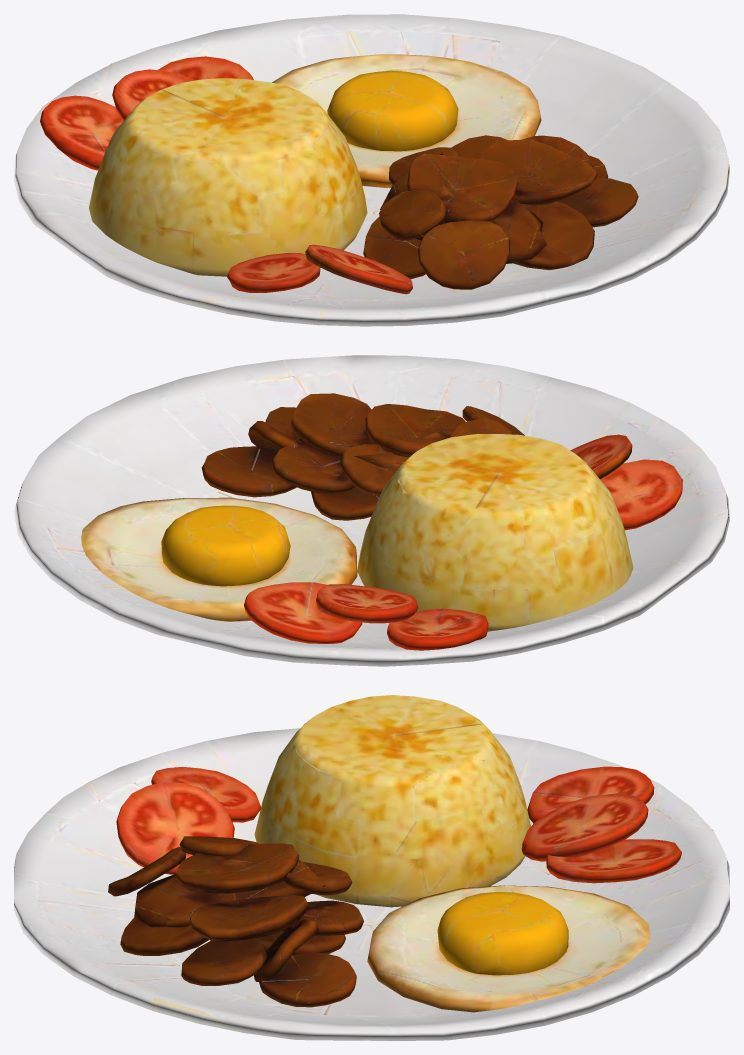
The model's file is tapsilog.glb.
The picture shows the model from 3 angles, top to bottom: view 1: azimuth 30°, elevation 25°; view 2: azimuth 150°, elevation 25°; view 3: azimuth 270°, elevation 25°; orthographic projection. The views are drawn at different scales.
Visible parts, largest first — view 1: geometry_0; view 2: geometry_0; view 3: geometry_0.
Part boxes in pixels (x1,y1,x2,y2): geometry_0: (14, 14, 729, 326); geometry_0: (14, 355, 729, 666); geometry_0: (14, 695, 729, 1040).
Bounding box in the file's own units: 1 × 0.213 × 1.
Materials: 1 (1 with a texture image).
